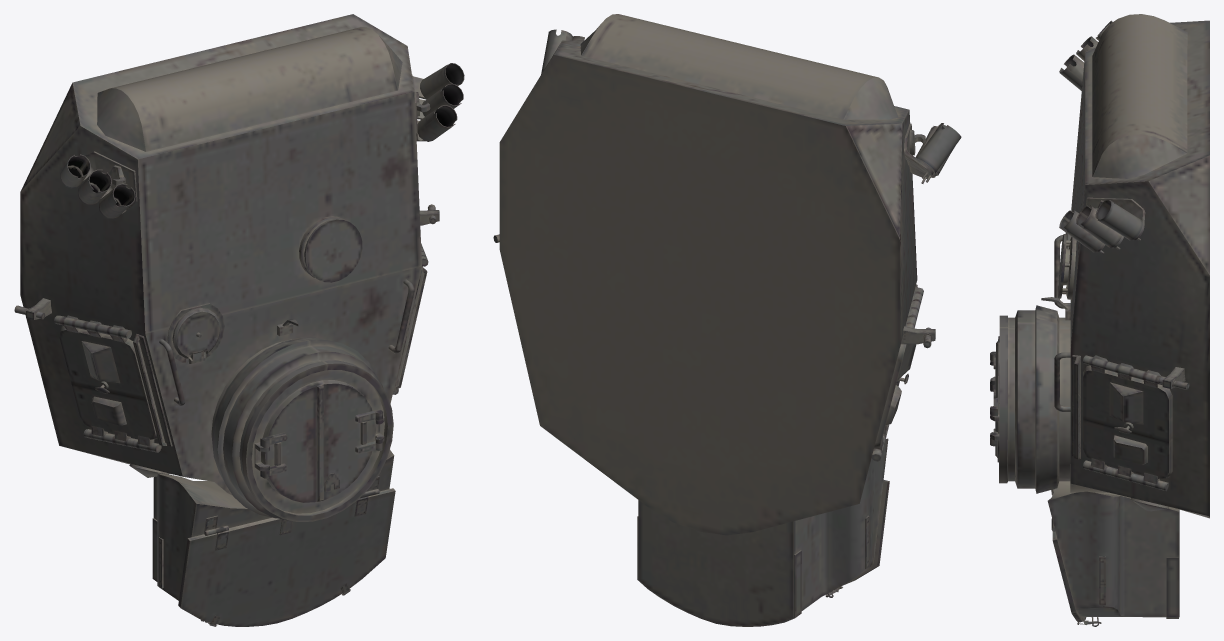
Rendered from Turret_02.glb.
3 views of the same model, side by side, from view 1: azimuth 30°, elevation 25°; view 2: azimuth 150°, elevation 25°; view 3: azimuth 270°, elevation 25° (orthographic). The views are drawn at different scales.
Parts seen in each view (by area): view 1: set_0_group_0; view 2: set_0_group_0; view 3: set_0_group_0.
Part boxes in pixels (<box>): set_0_group_0: <box>14,14,464,626</box>; set_0_group_0: <box>493,14,961,626</box>; set_0_group_0: <box>990,14,1209,626</box>.
Size of the model in its own units: 2.03 by 2.49 by 0.9306.
Materials: 1 (1 with a texture image).
